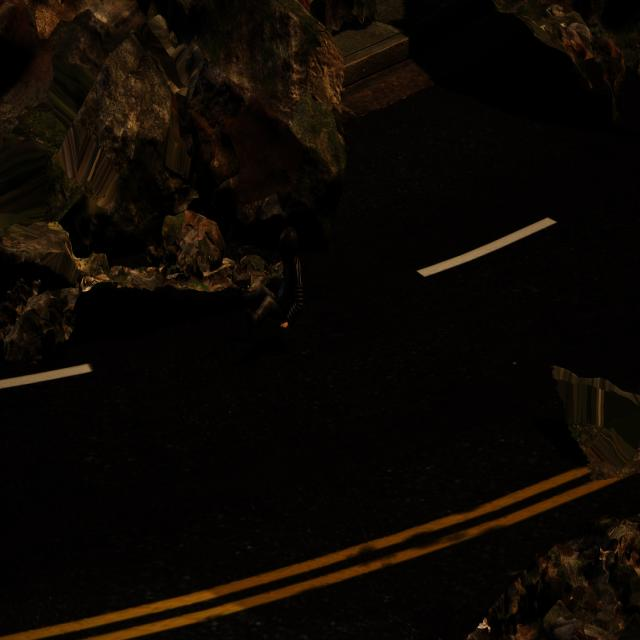Human: (236, 218, 309, 350)
